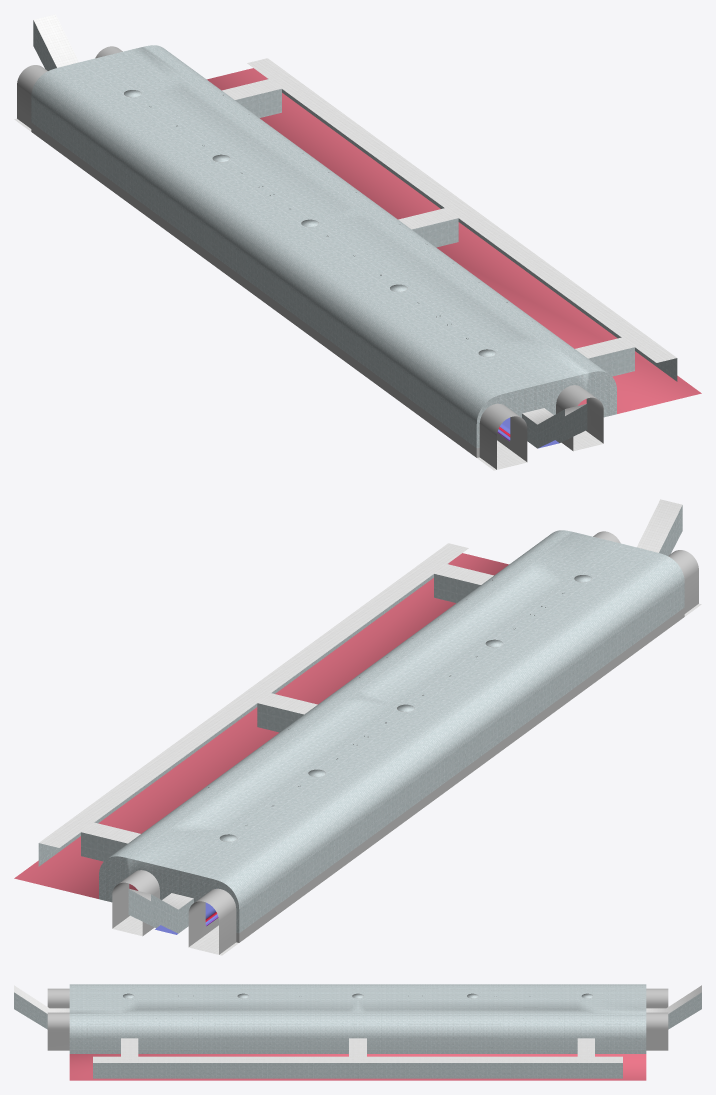
The model's file is S_StationAllInclusive.fbx.
The picture shows the model from 3 angles, top to bottom: view 1: azimuth 30°, elevation 25°; view 2: azimuth 150°, elevation 25°; view 3: azimuth 270°, elevation 25°; orthographic projection. The views are drawn at different scales.
Visible parts, largest first — view 1: S_StationCeiling_low, S_LeftGround_low, S_StationCeiling_01, S_RightTunnelAndConcrete, S_StationDoor->, S_StationBigWall, S_StationCentralWalls_02, S_StationCeiling_02, S_LeftTunnelAndConcrete, S_RightRailsSupport, S_StationSmallWalls_02, S_StationSmallWalls_03 (+1 smaller); view 2: S_StationCeiling_low, S_LeftGround_low, S_StationCeiling_01, S_RightTunnelAndConcrete, S_StationDoor<-, S_StationBigWall, S_StationCentralWalls_01, S_StationCeiling_02, S_LeftTunnelAndConcrete, S_RightRailsSupport, S_StationSmallWalls_02, S_StationSmallWalls_01 (+1 smaller); view 3: S_StationCeiling_low, S_StationBigWall, S_StationCeiling_01, S_LeftGround_low, S_LeftTunnelAndConcrete, S_RightTunnelAndConcrete, S_StationCeiling_02, S_StationCentralWalls_01, S_StationCentralWalls_02, S_RoundPillar_low.
Boxes of the visible parts, x1,y1,x2,y2 form: S_StationCeiling_low: [31, 45, 606, 447]; S_LeftGround_low: [207, 68, 701, 413]; S_StationCeiling_01: [222, 58, 676, 362]; S_RightTunnelAndConcrete: [17, 65, 527, 469]; S_StationDoor->: [476, 371, 616, 448]; S_StationBigWall: [282, 89, 677, 381]; S_StationCentralWalls_02: [522, 404, 587, 448]; S_StationCeiling_02: [33, 14, 586, 424]; S_LeftTunnelAndConcrete: [95, 46, 603, 450]; S_RightRailsSupport: [14, 118, 603, 470]; S_StationSmallWalls_02: [412, 218, 458, 247]; S_StationSmallWalls_03: [588, 347, 634, 376]; S_StationCeiling_low: [109, 530, 684, 932]; S_LeftGround_low: [14, 553, 508, 898]; S_StationCeiling_01: [39, 543, 493, 847]; S_RightTunnelAndConcrete: [188, 550, 698, 954]; S_StationDoor<-: [99, 856, 239, 933]; S_StationBigWall: [38, 574, 433, 866]; S_StationCentralWalls_01: [128, 889, 193, 933]; S_StationCeiling_02: [129, 499, 682, 909]; S_LeftTunnelAndConcrete: [112, 531, 620, 935]; S_RightRailsSupport: [112, 603, 701, 955]; S_StationSmallWalls_02: [257, 703, 303, 732]; S_StationSmallWalls_01: [81, 832, 127, 861]; S_StationCeiling_low: [69, 984, 646, 1053]; S_StationBigWall: [93, 1063, 622, 1078]; S_StationCeiling_01: [93, 1038, 622, 1062]; S_LeftGround_low: [69, 1054, 646, 1080]; S_LeftTunnelAndConcrete: [47, 1012, 668, 1050]; S_RightTunnelAndConcrete: [47, 988, 668, 1008]; S_StationCeiling_02: [14, 985, 701, 1013]; S_StationCentralWalls_01: [668, 992, 701, 1029]; S_StationCentralWalls_02: [14, 992, 47, 1029]; S_RoundPillar_low: [123, 993, 592, 998].
Size of the model in its own units: 29.33 by 8.66 by 120.
